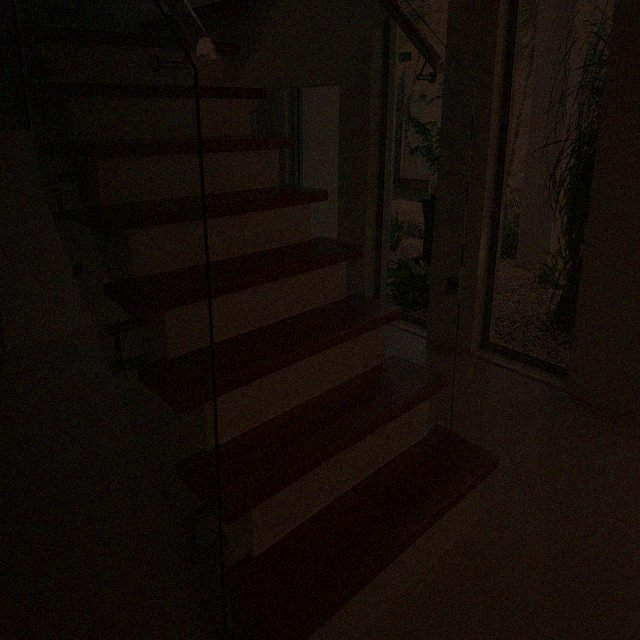stair: (21, 0, 498, 639)
